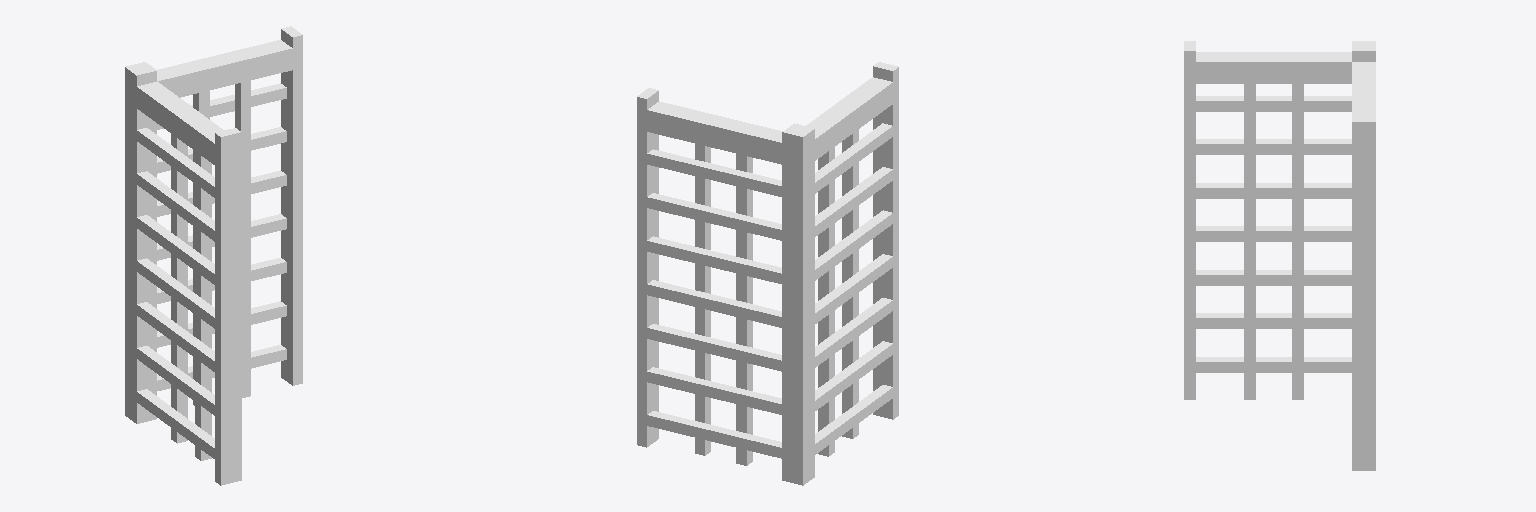
The model's file is fence001(16,2,32).obj.
3 renders of one model, left to right at view 1: azimuth 30°, elevation 25°; view 2: azimuth 150°, elevation 25°; view 3: azimuth 270°, elevation 25°, orthographic.
Bounding box in the file's own units: 16 × 32 × 16.